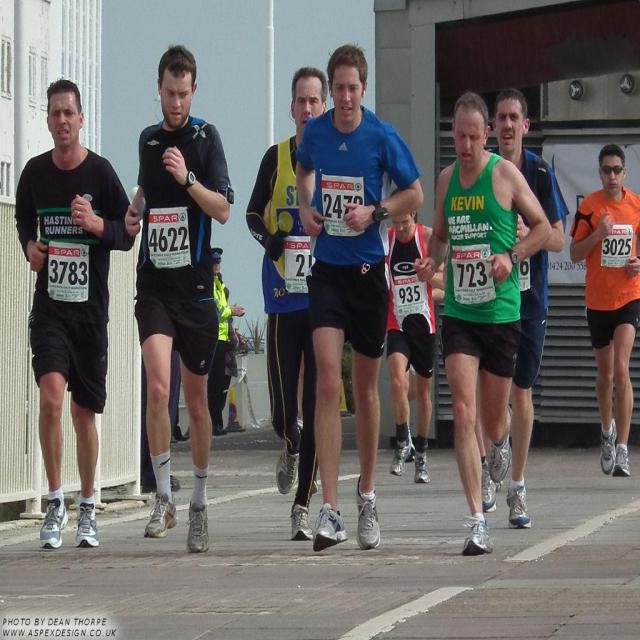Bib: (455, 263, 501, 291), (47, 260, 87, 290), (148, 226, 188, 252), (604, 238, 637, 260), (393, 282, 423, 306), (322, 191, 344, 223)
